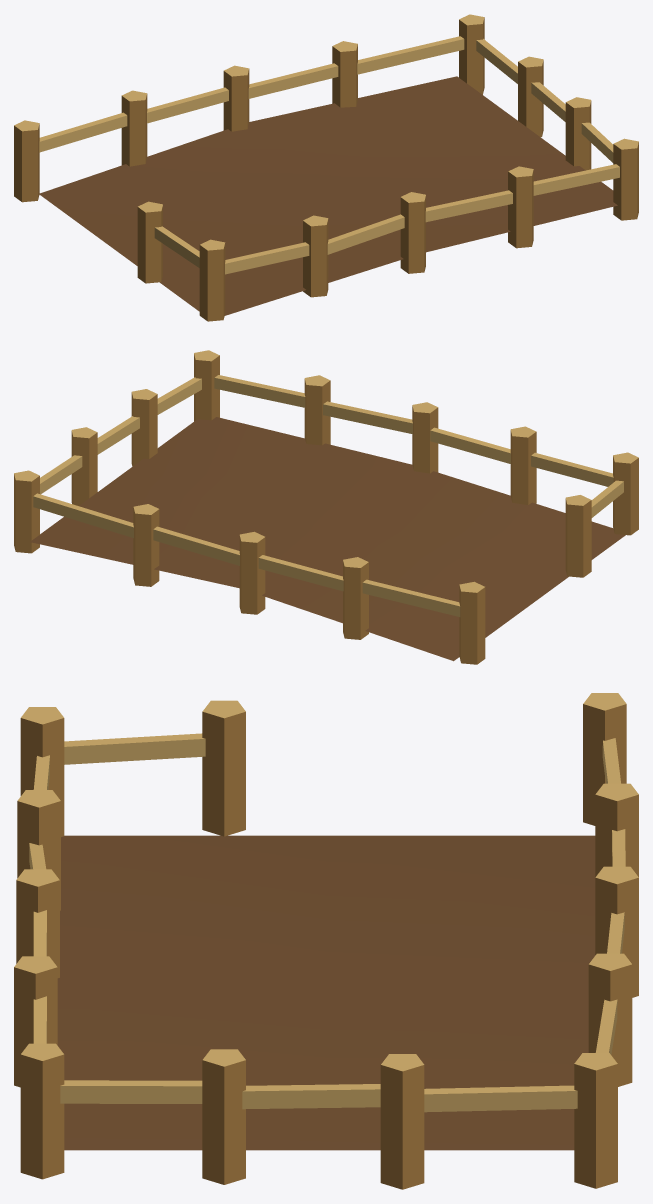
File: farm2.FBX
The picture shows the model from 3 angles, top to bottom: view 1: azimuth 30°, elevation 25°; view 2: azimuth 150°, elevation 25°; view 3: azimuth 270°, elevation 25°; orthographic projection. The views are drawn at different scales.
Visible parts, largest first — view 1: Plane017; view 2: Plane017; view 3: Plane017.
Part boxes in pixels (bbox=[...]): Plane017: bbox=[14, 14, 638, 321]; Plane017: bbox=[14, 350, 638, 664]; Plane017: bbox=[14, 693, 638, 1189].
Bounding box in the file's own units: 20.85 × 3.16 × 14.56.
Materials: 1 (1 with a texture image).
